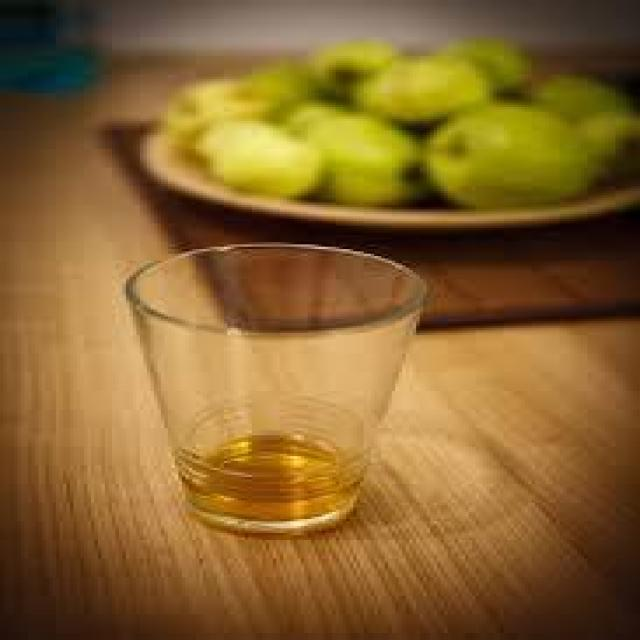maca: (161, 35, 636, 207)
